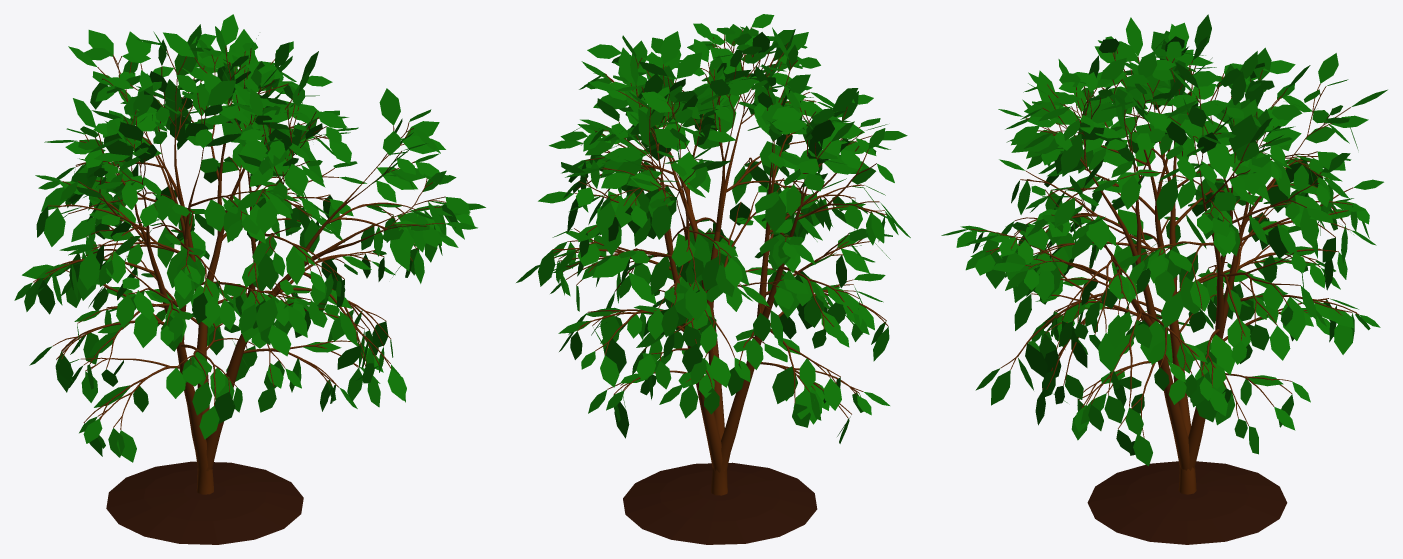
Rendered from TreeStage4.glb.
The picture shows the model from 3 angles, left to right: view 1: azimuth 30°, elevation 25°; view 2: azimuth 150°, elevation 25°; view 3: azimuth 270°, elevation 25°; orthographic projection.
Visible parts, largest first — view 1: leaves, stage2, Cone; view 2: leaves, stage2, Cone; view 3: leaves, stage2, Cone.
Part boxes in pixels (bbox=[...]): leaves: bbox=[14, 14, 485, 462]; stage2: bbox=[33, 46, 445, 494]; Cone: bbox=[106, 461, 303, 544]; leaves: bbox=[516, 14, 910, 443]; stage2: bbox=[552, 27, 888, 495]; Cone: bbox=[623, 462, 817, 544]; leaves: bbox=[941, 14, 1387, 466]; stage2: bbox=[970, 49, 1358, 494]; Cone: bbox=[1087, 461, 1287, 544].
Bounding box in the file's own units: 1.94 × 2.4 × 2.1.
